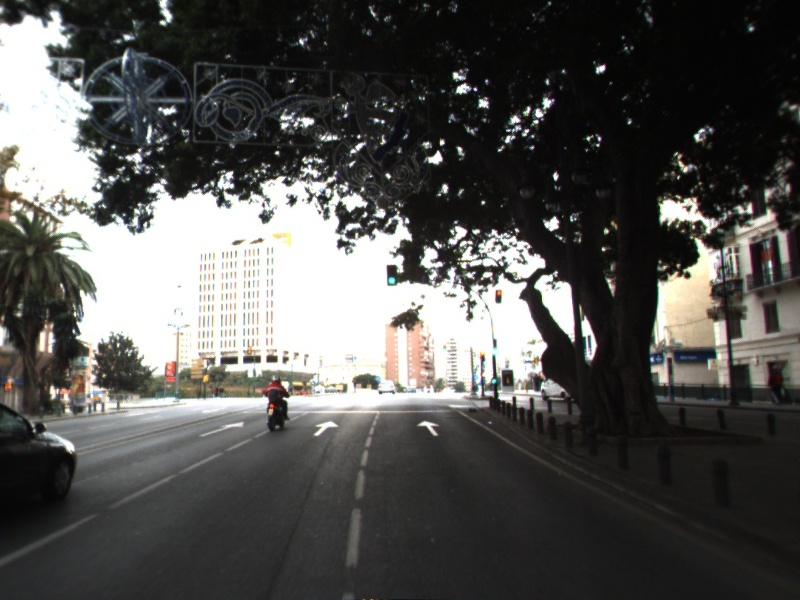STRAIGHT: (196, 419, 247, 439), (311, 419, 341, 438), (415, 418, 443, 438)
